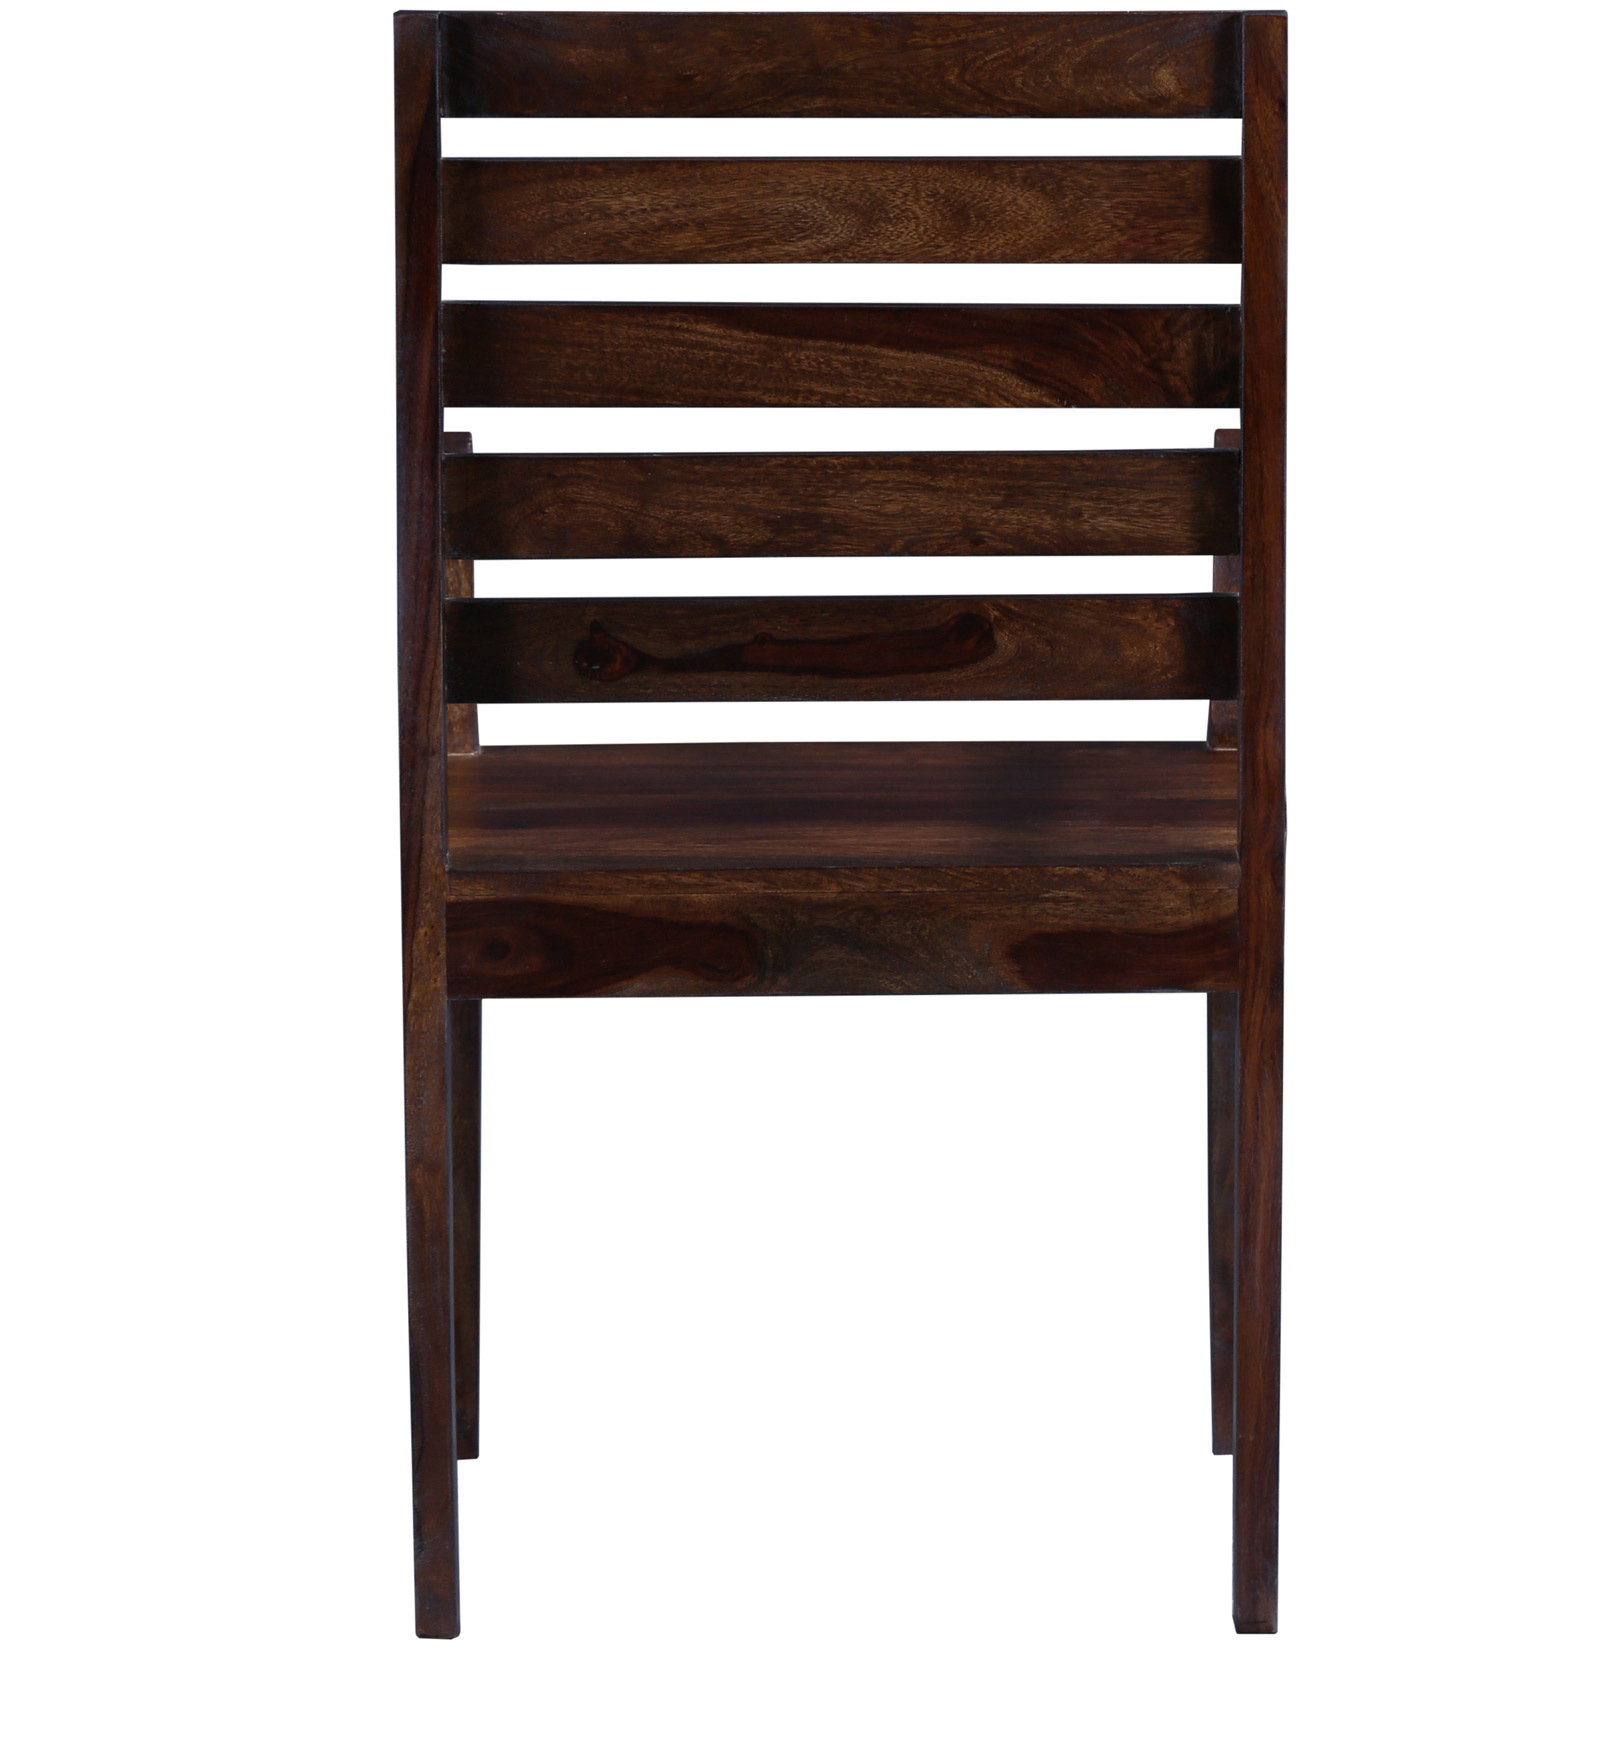Stigen Arm Chair in Provincial Teak Finish by Woodsworth: (326, 3, 1402, 1671)
